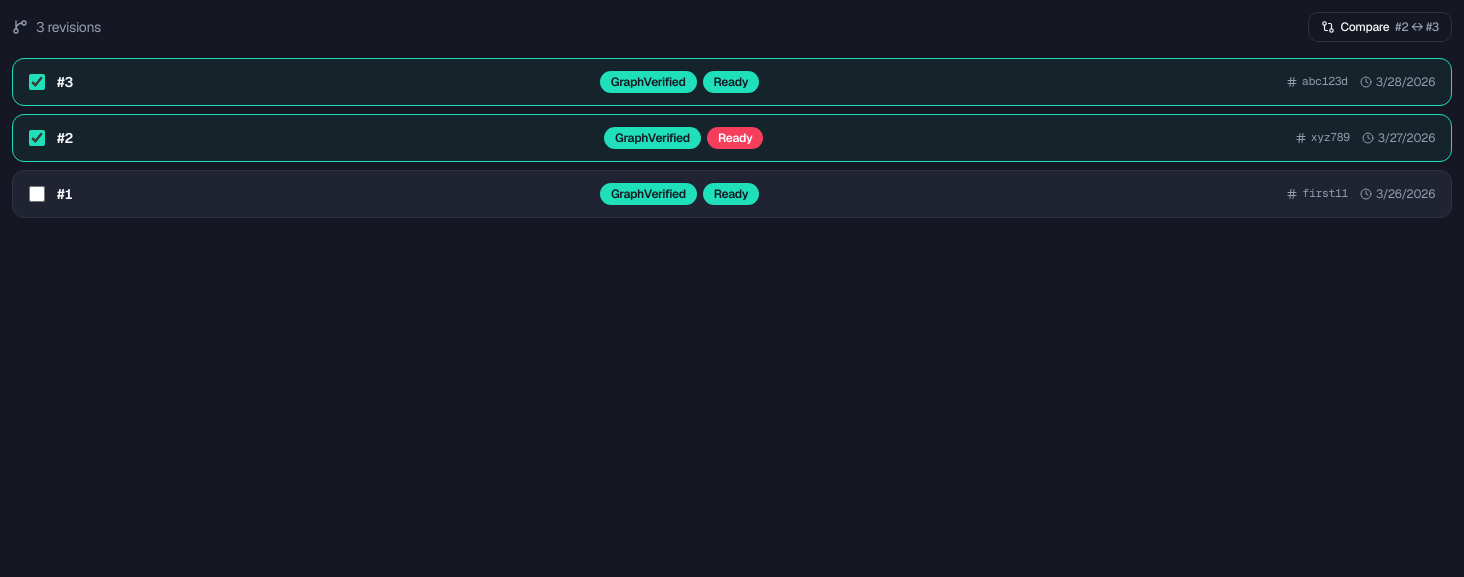
RevisionsTab › shows diff view when Compare button is clicked
Click the button with test id "compare-button" at [1380, 27], box [1308,12,1452,42]
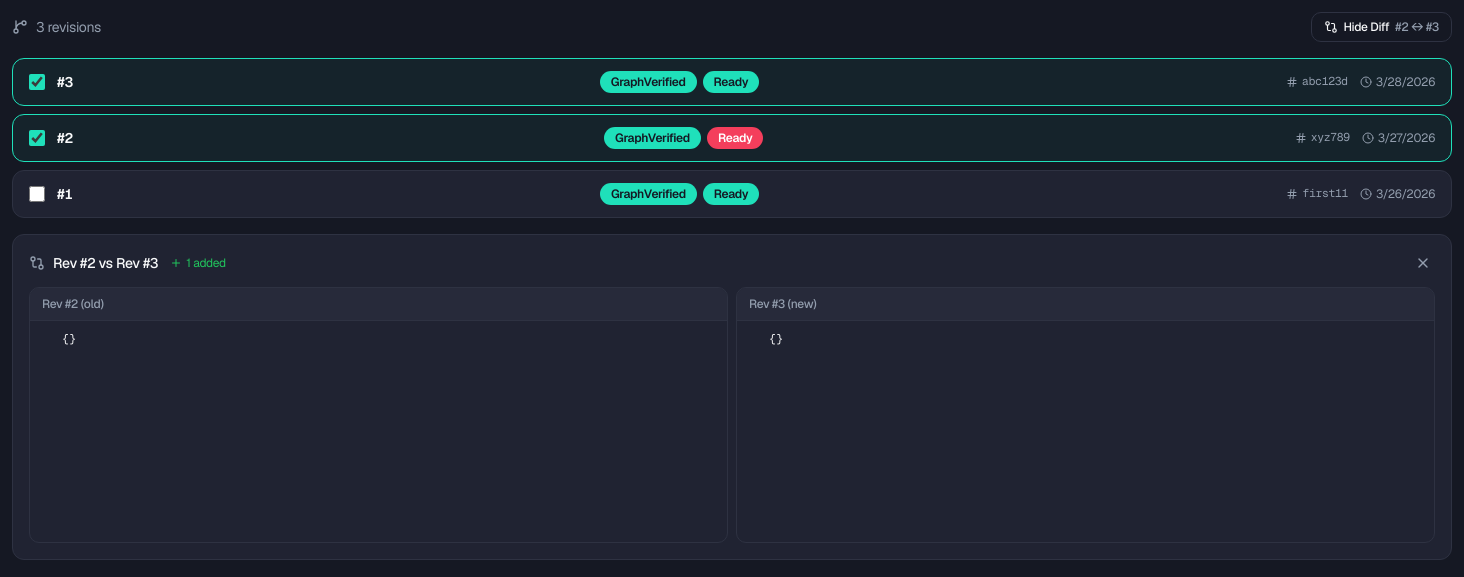
expect the button named "Close diff view" is shown: met, box [1411,251,1435,275]
